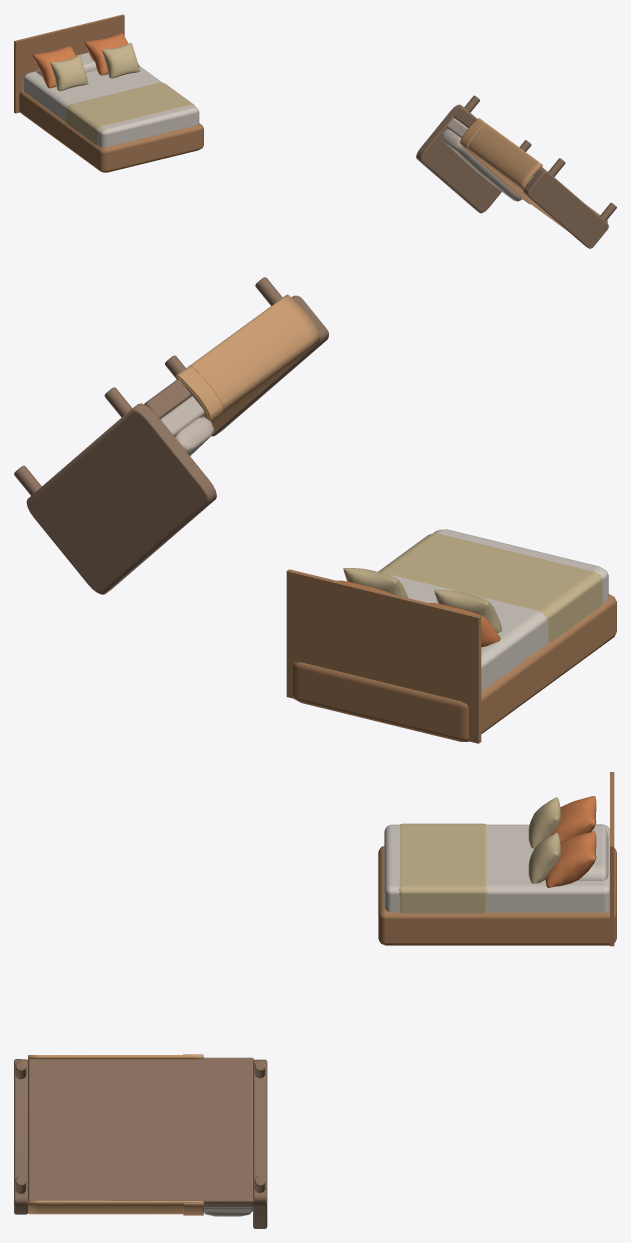
3 renders of one model, top to bottom at view 1: azimuth 30°, elevation 25°; view 2: azimuth 150°, elevation 25°; view 3: azimuth 270°, elevation 25°, orthographic. The views are drawn at different scales.
Parts seen in each view (by area): view 1: Rectangle (×2), bed, base, cover, cushion (×4), bigwoodback, blanket, pillow, Subdiv 2; view 2: Rectangle (×2), bigwoodback, base, cover, blanket, bed, cushion (×2), Subdiv 2, basebed, basebed 2, pillow; view 3: basebed, base, bed, cover, cushion (×4), Rectangle (×2), blanket, longcushion, bigwoodback.
Boxes of the visible parts, x1,y1,x2,y2 form: Rectangle (×2): [416, 104, 608, 248]; bed: [23, 66, 199, 147]; base: [19, 89, 203, 172]; cover: [66, 82, 194, 144]; cushion (×4): [32, 33, 139, 91]; bigwoodback: [14, 14, 124, 113]; blanket: [468, 118, 607, 231]; pillow: [440, 129, 522, 201]; Subdiv 2: [460, 118, 530, 204]; Rectangle (×2): [26, 295, 328, 594]; bigwoodback: [286, 569, 481, 743]; base: [292, 594, 616, 741]; cover: [378, 533, 602, 643]; blanket: [175, 294, 319, 433]; bed: [385, 529, 608, 691]; cushion (×2): [343, 568, 501, 632]; Subdiv 2: [177, 366, 223, 422]; basebed: [144, 379, 191, 418]; basebed 2: [160, 396, 205, 436]; pillow: [175, 416, 214, 455]; basebed: [28, 1057, 253, 1206]; base: [378, 846, 616, 945]; bed: [384, 824, 609, 912]; cover: [399, 823, 487, 913]; cushion (×4): [528, 796, 596, 887]; Rectangle (×2): [14, 1059, 267, 1228]; blanket: [28, 1055, 203, 1214]; longcushion: [577, 824, 608, 880]; bigwoodback: [610, 772, 614, 946].
Size of the model in its own units: 9.51 by 3.75 by 9.11.
